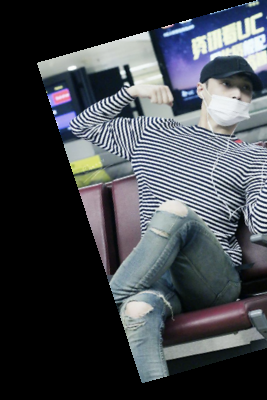mask_weared_incorrect: (193, 51, 267, 141)
